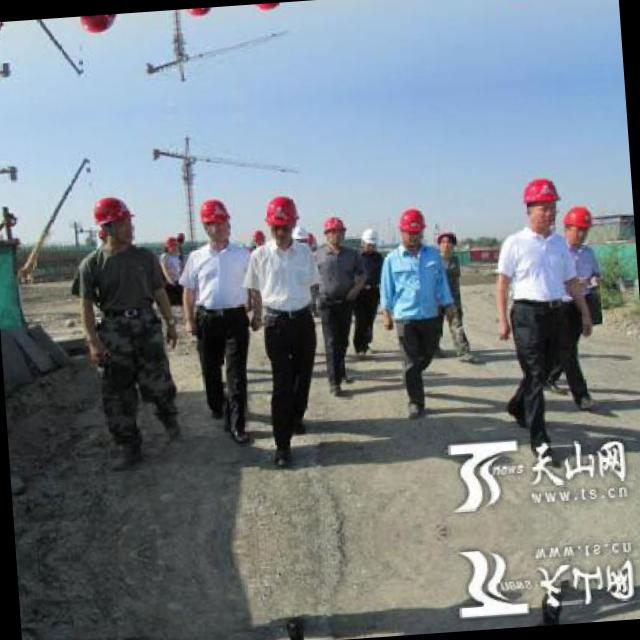helmet: (85, 190, 134, 250), (516, 171, 564, 232), (194, 193, 230, 246), (261, 192, 297, 244), (390, 202, 424, 246), (562, 199, 594, 244), (316, 208, 348, 244), (72, 14, 120, 36), (435, 221, 459, 253), (356, 220, 378, 250), (158, 230, 181, 253), (181, 6, 216, 20)
